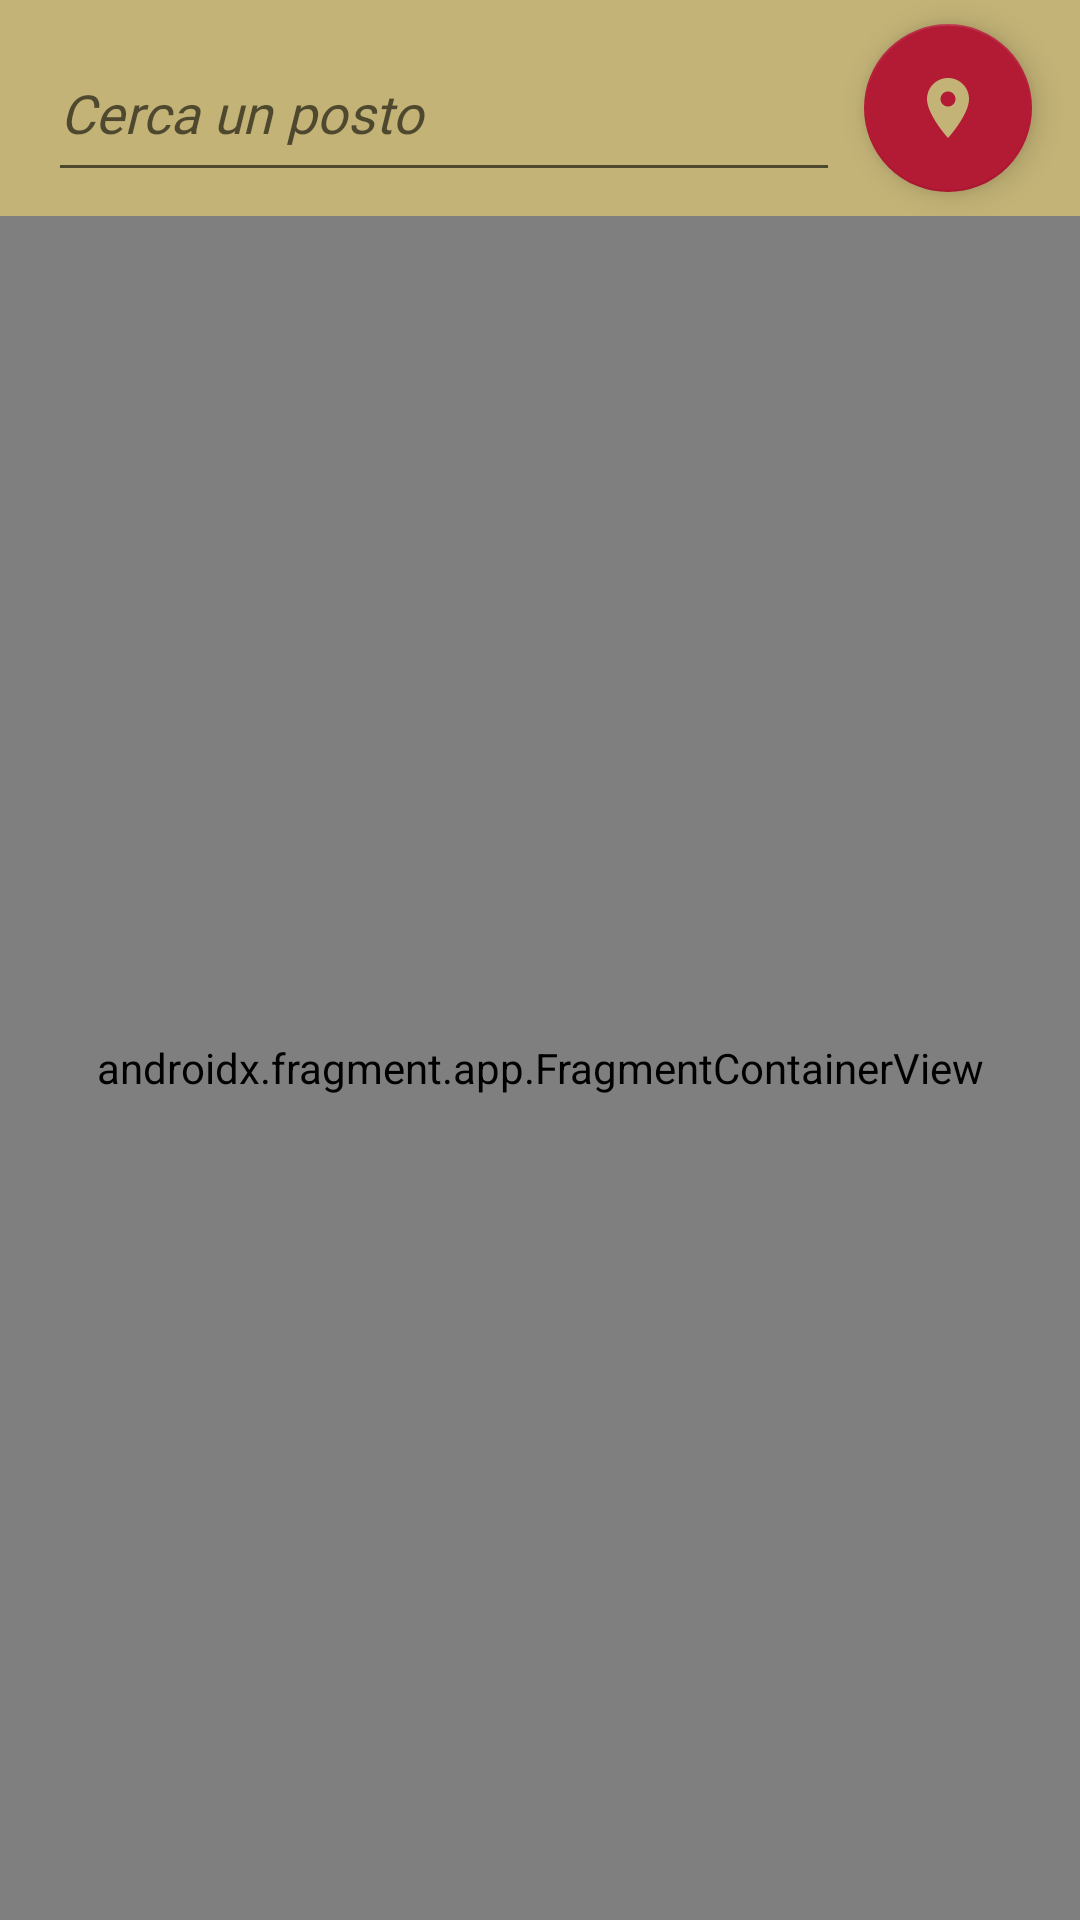

Named icons in this screenshot (1080px×1920px) and their bounding boxes, BBox(x1, y1, x2, y2):
location on: BBox(864, 24, 1032, 192)
